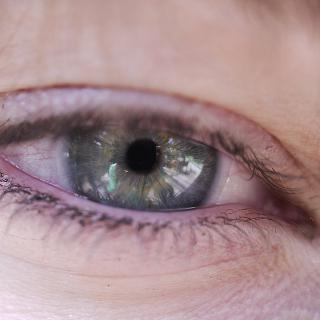pupil: (126, 138, 162, 174)
